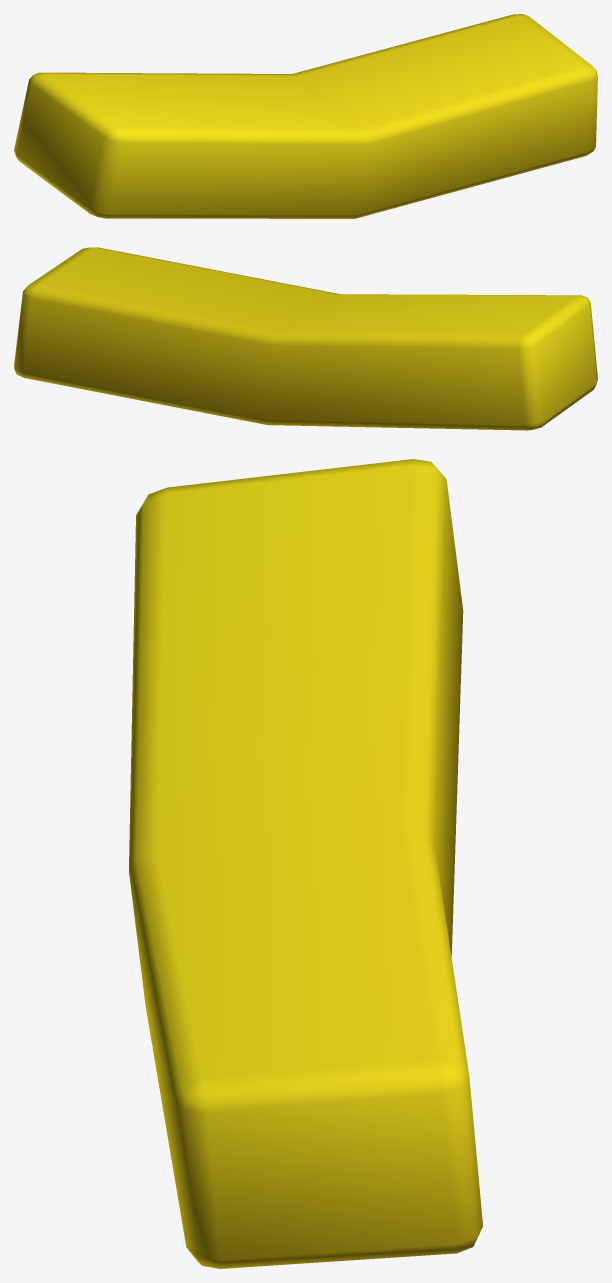
The model's file is Fry.1.fbx.
3 views of the same model, one above another, from view 1: azimuth 30°, elevation 25°; view 2: azimuth 150°, elevation 25°; view 3: azimuth 270°, elevation 25° (orthographic). The views are drawn at different scales.
Parts seen in each view (by area): view 1: fry 1; view 2: fry 1; view 3: fry 1.
Part boxes in pixels (box(x1,y1,x2,y2)): fry 1: box(14, 14, 597, 218); fry 1: box(14, 247, 597, 430); fry 1: box(129, 459, 482, 1268).
Size of the model in its own units: 6.8 by 2.01 by 1.99.
1 material, 1 textured.
